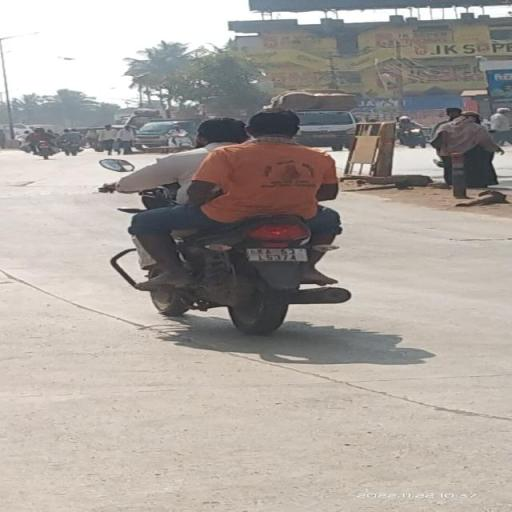bike: (95, 116, 357, 338)
numberplate: (248, 246, 308, 262)
withouthelmet: (250, 112, 300, 138), (198, 117, 245, 143)
